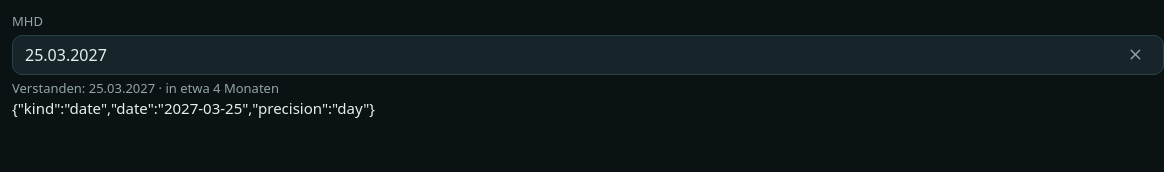
Test: BestBeforeField › leert das Feld über das Kreuz
Step 1. Click the button named "MHD leeren" → (1135, 55), box [1119,39,1151,71]
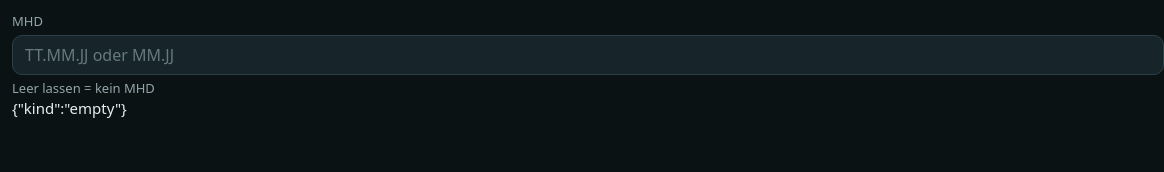
Now the field labelled "MHD" is empty, box [25,36,1151,74]
Now the text "{\"kind\":\"empty\"}" is shown, box [12,98,127,118]
